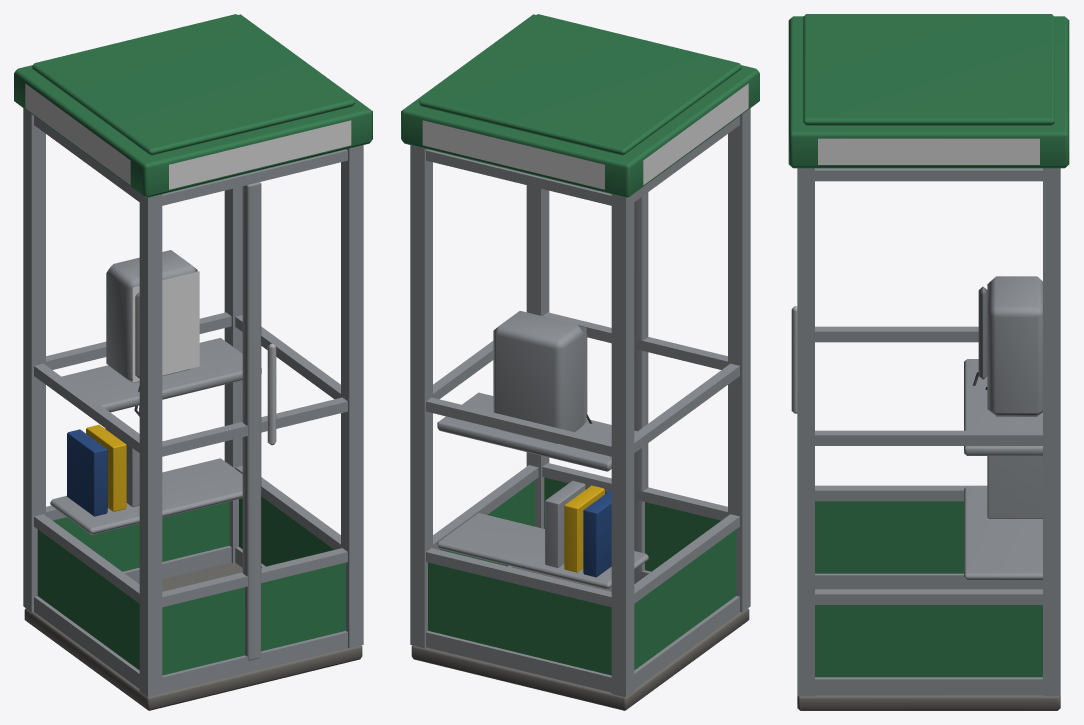
The model's file is PhoneBoothKM.fbx.
3 views of the same model, side by side, from view 1: azimuth 30°, elevation 25°; view 2: azimuth 150°, elevation 25°; view 3: azimuth 270°, elevation 25° (orthographic). The views are drawn at different scales.
Parts seen in each view (by area): view 1: PhoneBoothKM; view 2: PhoneBoothKM; view 3: PhoneBoothKM.
Part boxes in pixels (x1,y1,x2,y2): PhoneBoothKM: [14, 14, 372, 710]; PhoneBoothKM: [401, 14, 759, 710]; PhoneBoothKM: [788, 14, 1069, 710].
Bounding box in the file's own units: 0.964 × 2.23 × 0.964.
